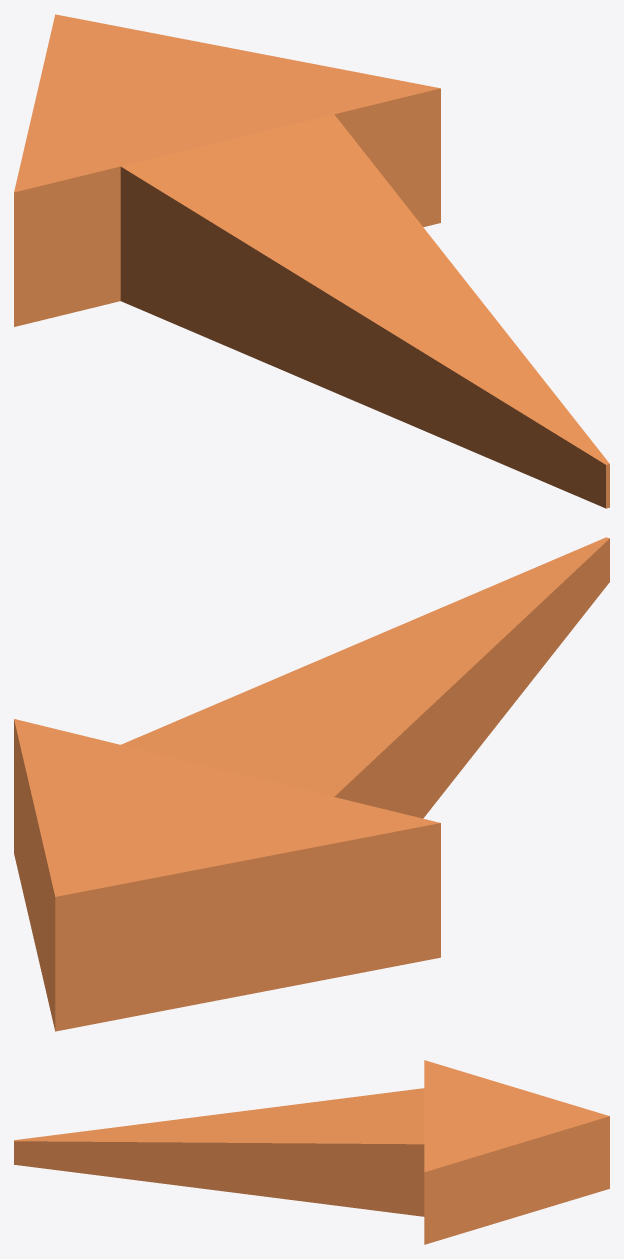
Rendered from Atlas Arrow.fbx.
The picture shows the model from 3 angles, top to bottom: view 1: azimuth 30°, elevation 25°; view 2: azimuth 150°, elevation 25°; view 3: azimuth 270°, elevation 25°; orthographic projection. The views are drawn at different scales.
Visible parts, largest first — view 1: Cube; view 2: Cube; view 3: Cube.
Boxes of the visible parts, x1,y1,x2,y2 form: Cube: (14, 14, 609, 508); Cube: (14, 537, 609, 1031); Cube: (14, 1060, 609, 1244).
Size of the model in its own units: 41.89 by 12.62 by 93.95.
